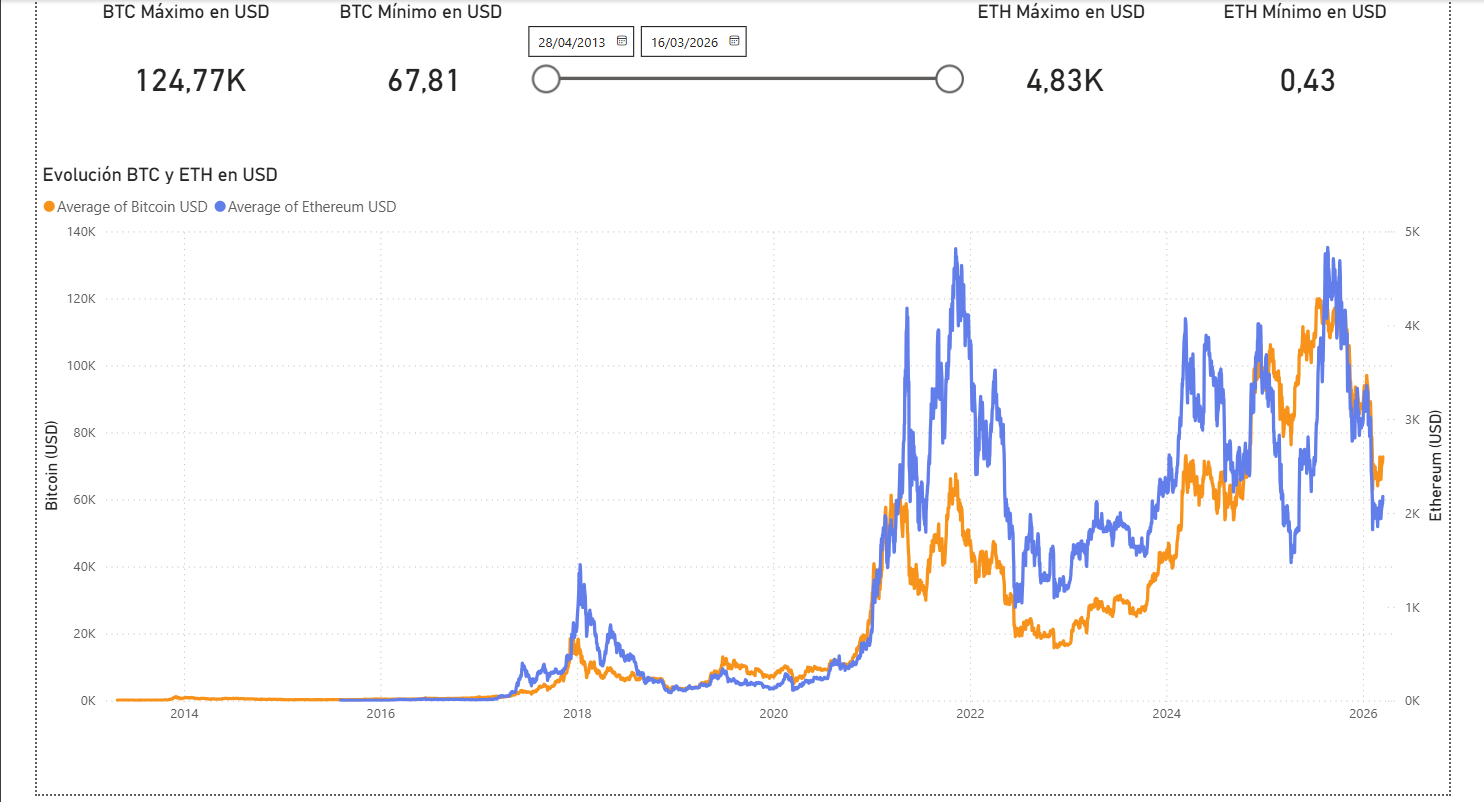

The dashboard page shown, as its layout file describes it:
{"tool":"powerbi","page":{"name":"General","canvas":[1280,720],"ordinal":0},"visuals":[{"type":"card","title":"BTC Máximo en USD","fields":{"Values":["Max(crypto_vs_peso_clean.btc_usd)"]},"box":[54.4,0,168.7,121.5],"z":0},{"type":"card","title":"BTC Mínimo en USD","fields":{"Values":["Min(crypto_vs_peso_clean.btc_usd)"]},"box":[269.3,0,163.2,121.5],"z":1000},{"type":"card","title":"ETH Máximo en USD","fields":{"Values":["Max(crypto_vs_peso_clean.eth_usd)"]},"box":[847.9,0,168.7,121.5],"z":2000},{"type":"card","title":"ETH Mínimo en USD","fields":{"Values":["Min(crypto_vs_peso_clean.eth_usd)"]},"box":[1070.9,0,163.2,121.5],"z":3000},{"type":"lineChart","title":"Evolución BTC y ETH en USD","fields":{"Y":["Avg(crypto_vs_peso_clean.btc_usd)"],"Y2":["Avg(crypto_vs_peso_clean.eth_usd)"],"Category":["crypto_vs_peso_clean.date.Variation.Date Hierarchy.Year","crypto_vs_peso_clean.date.Variation.Date Hierarchy.Quarter","crypto_vs_peso_clean.date.Variation.Date Hierarchy.Month","crypto_vs_peso_clean.date.Variation.Date Hierarchy.Day"]},"box":[0,147.8,1280.4,517.8],"z":4000},{"type":"slicer","fields":{"Values":["crypto_vs_peso_clean.date"]},"box":[432.5,13.6,415.3,93.4],"z":5000}]}

Visuals, with their boxes on the page's 1280x720 design canvas (x1, y1, x2, y2). These are canvas units, not pixel positions in the 1484x802 screenshot, which may show the page scaled, cropped or inside an application window:
"BTC Máximo en USD" card: {"left": 54, "top": 0, "right": 223, "bottom": 122}
"BTC Mínimo en USD" card: {"left": 269, "top": 0, "right": 432, "bottom": 122}
"ETH Máximo en USD" card: {"left": 848, "top": 0, "right": 1017, "bottom": 122}
"ETH Mínimo en USD" card: {"left": 1071, "top": 0, "right": 1234, "bottom": 122}
"Evolución BTC y ETH en USD" lineChart: {"left": 0, "top": 148, "right": 1280, "bottom": 666}
slicer - crypto_vs_peso_clean.date: {"left": 432, "top": 14, "right": 848, "bottom": 107}
